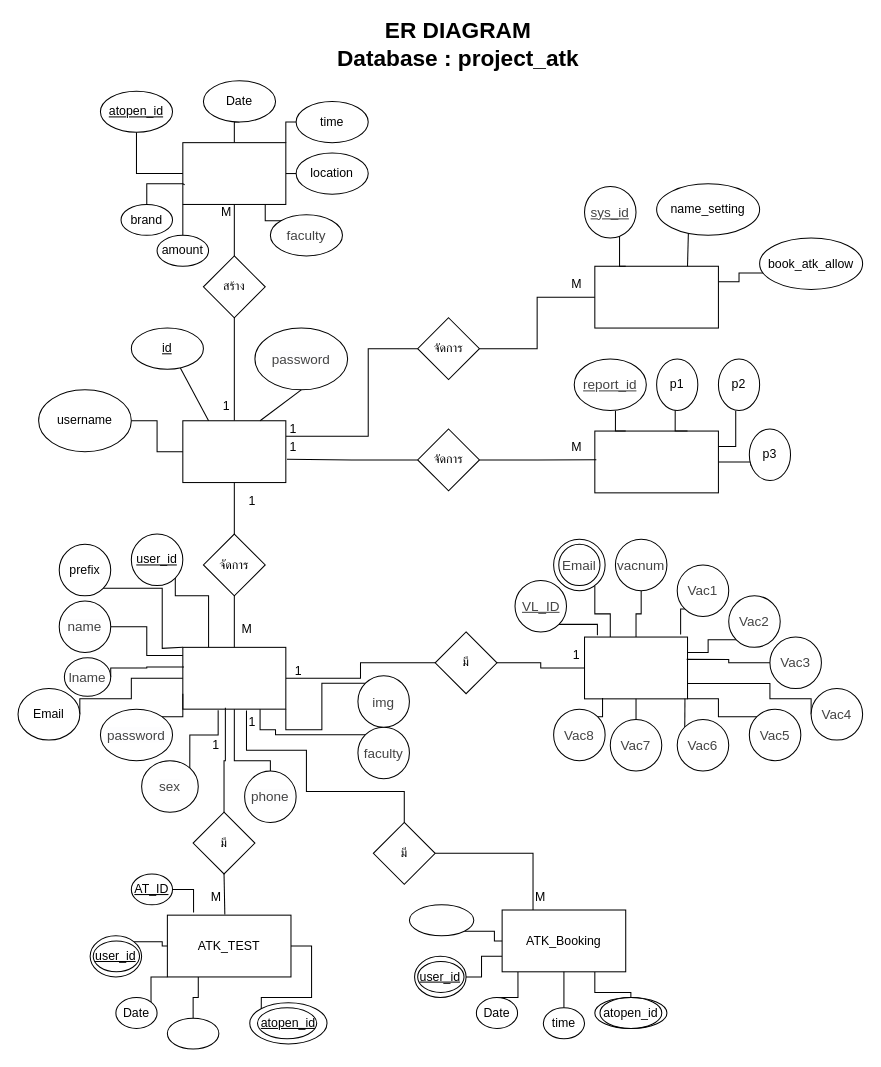
Image size: 881x1067. Some labels were removed from this diagram. The box of each missing label's shape, as (x1, y1, x2, y2) in pixels:
Admin: (182, 420, 286, 483)
Atk_open: (182, 142, 286, 204)
Book_ID: (408, 904, 474, 936)
report_date: (594, 430, 718, 493)
result: (166, 1017, 219, 1049)
system_setting: (594, 265, 718, 328)
User: (182, 646, 286, 709)
Vacc_log: (583, 636, 688, 699)
